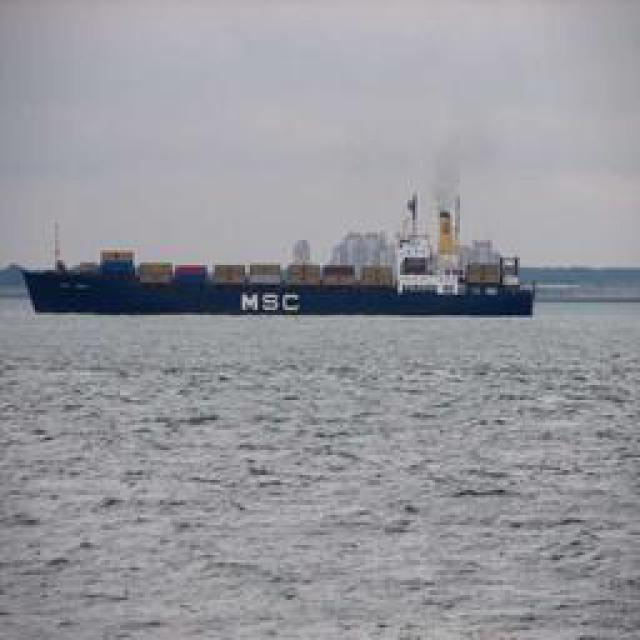Ship: (25, 211, 540, 321)
